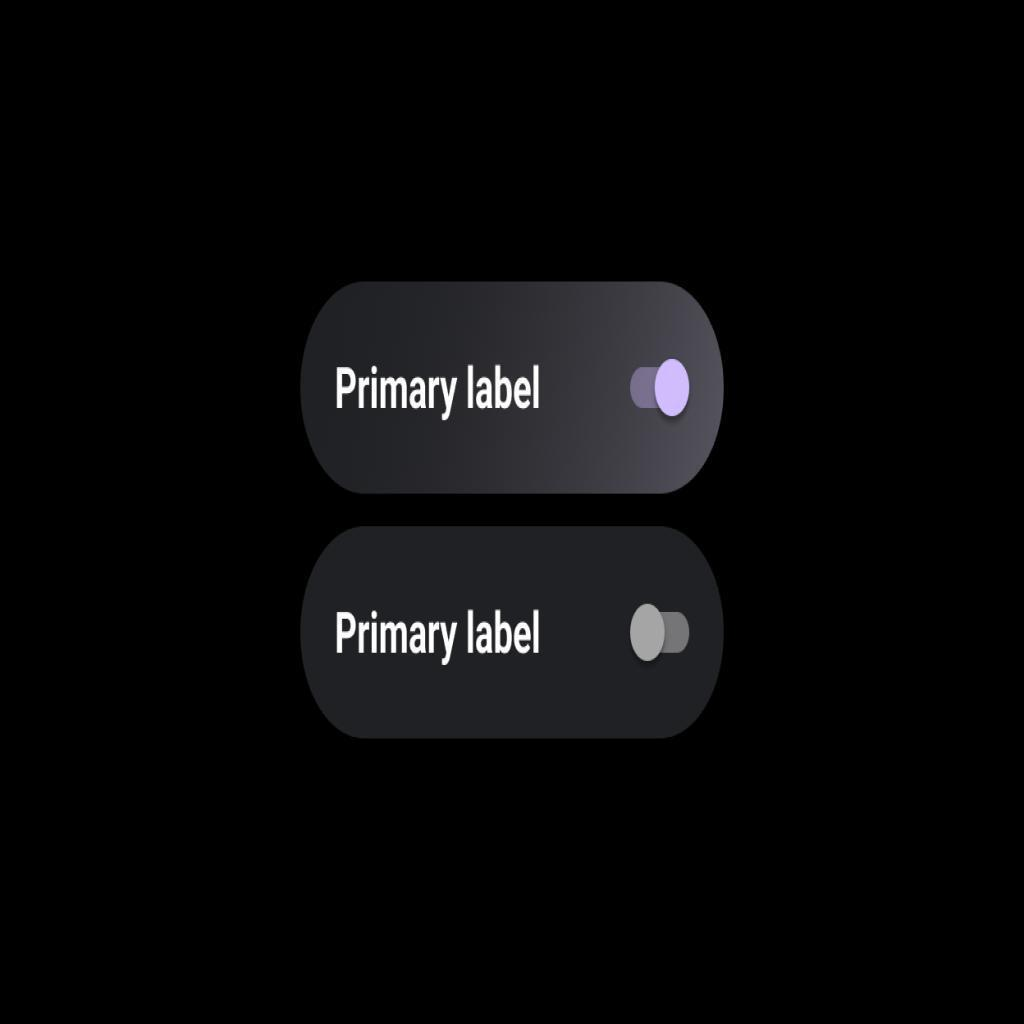label: (331, 610, 547, 666), (331, 364, 547, 412)
switch: (622, 358, 698, 424), (628, 596, 695, 667)
